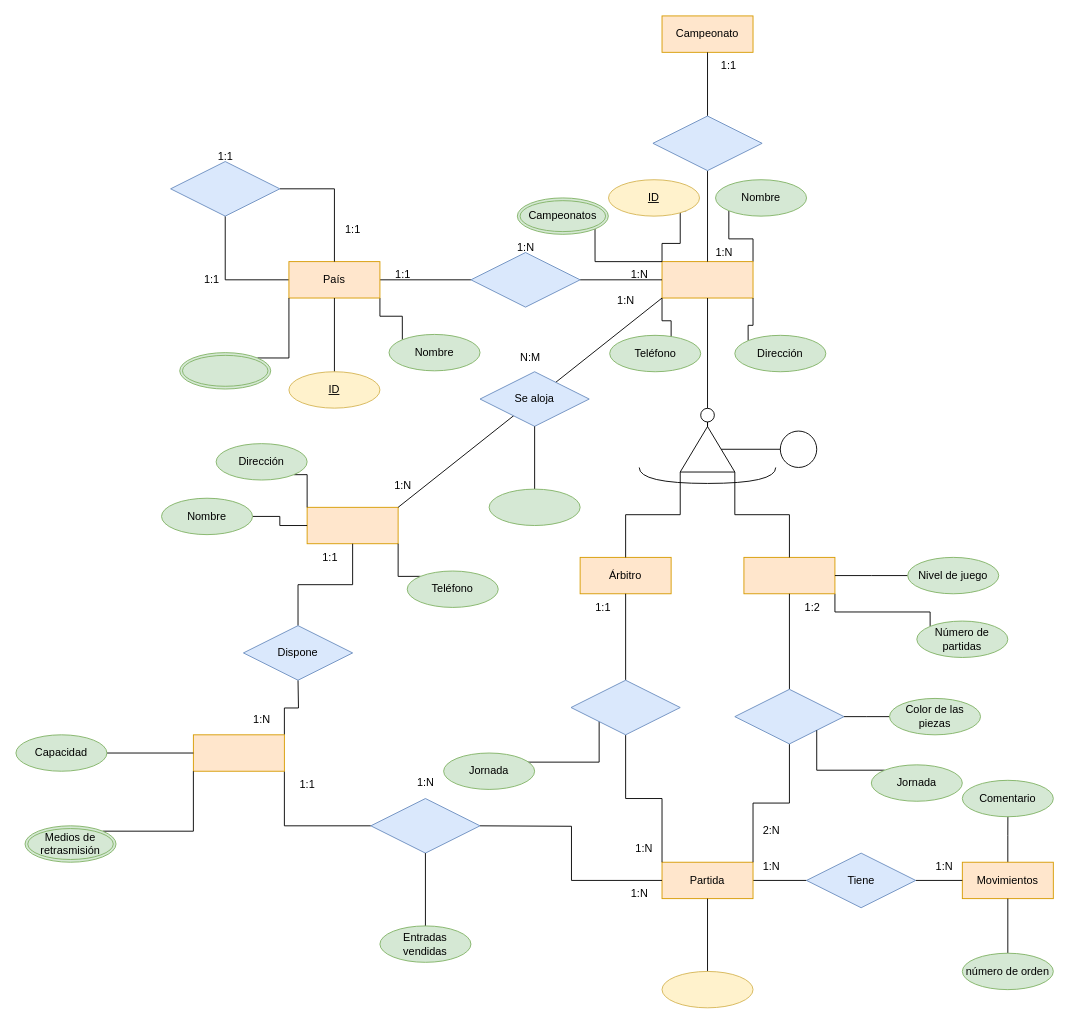
Image size: 1069x1024. Some labels were removed from this diagram. The centre of each missing label's shape, as x and y in pixels:
"Arbitra" belongs at point 625,707.
"Celebra" belongs at point 425,825.
"Clubes de ajedrez" belongs at point 225,370.
"Cod_P" belongs at point 707,989.
"Envía" belongs at point 525,279.
"Fecha" belongs at point 534,507.
"Hotel" belongs at point 352,525.
"Juega" belongs at point 789,716.
"Jugador" belongs at point 789,575.
"Participan" belongs at point 707,143.
"Participante" belongs at point 707,279.
"Representa" belongs at point 225,188.
"Sala" belongs at point 238,752.
"Tipo" belongs at point 798,448.
